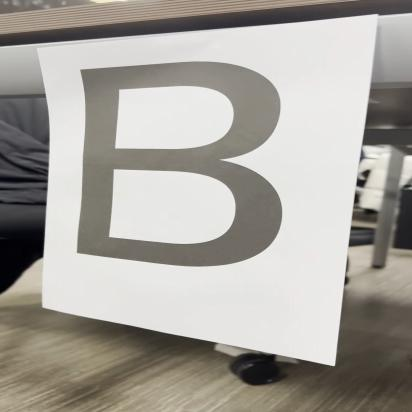seat: (66, 53, 318, 286)
